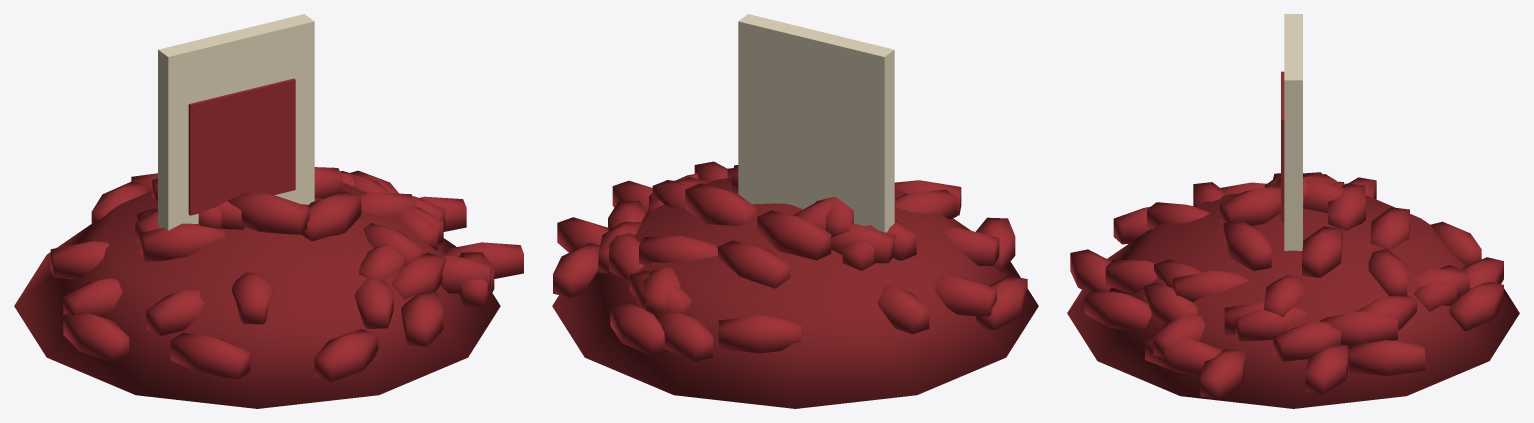
File: Veg_KidneyBean.fbx
3 views of the same model, side by side, from view 1: azimuth 30°, elevation 25°; view 2: azimuth 150°, elevation 25°; view 3: azimuth 270°, elevation 25° (orthographic). The views are drawn at different scales.
Parts seen in each view (by area): view 1: Veg_KidneyBean__Stack, Veg_KidneyBean__Seed; view 2: Veg_KidneyBean__Stack, Veg_KidneyBean__Seed; view 3: Veg_KidneyBean__Stack, Veg_KidneyBean__Seed.
Boxes of the visible parts, left/top/right/bottom form: Veg_KidneyBean__Stack: left=14, top=167, right=523, bottom=408; Veg_KidneyBean__Seed: left=158, top=14, right=314, bottom=230; Veg_KidneyBean__Stack: left=552, top=161, right=1038, bottom=408; Veg_KidneyBean__Seed: left=738, top=14, right=894, bottom=232; Veg_KidneyBean__Stack: left=1067, top=172, right=1519, bottom=408; Veg_KidneyBean__Seed: left=1281, top=14, right=1302, bottom=250.
Size of the model in its own units: 0.1482 by 0.09 by 0.144.
